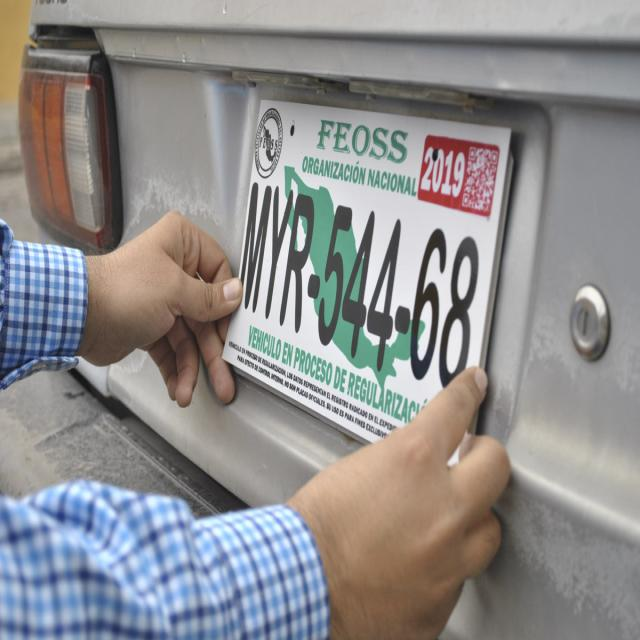placa: (217, 170, 499, 388)
